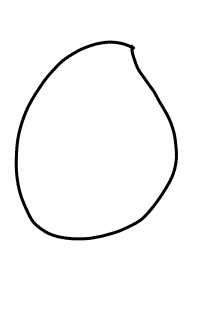Circle: (12, 37, 182, 243)
